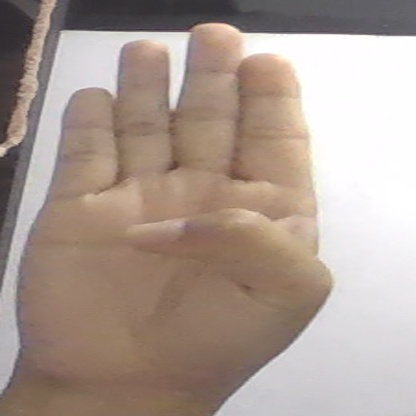B: (15, 22, 334, 399)
